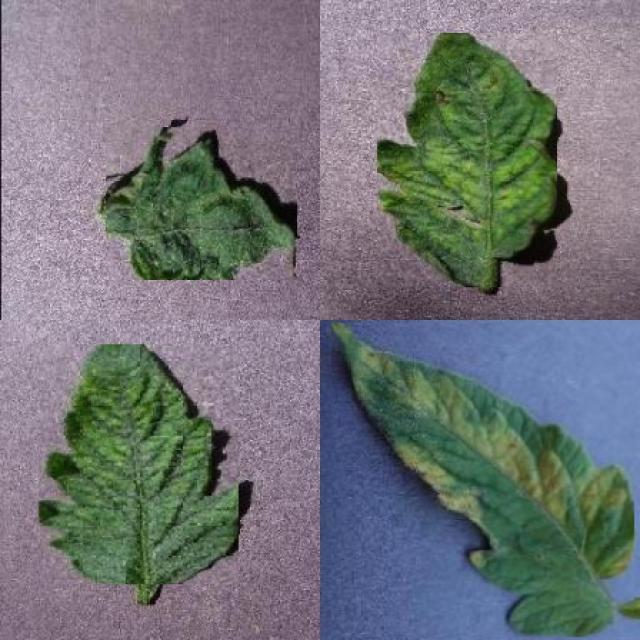Leaf Mold: (332, 323, 634, 637)
Mosaic Virus: (38, 345, 238, 585), (377, 33, 557, 288), (106, 127, 297, 280)
